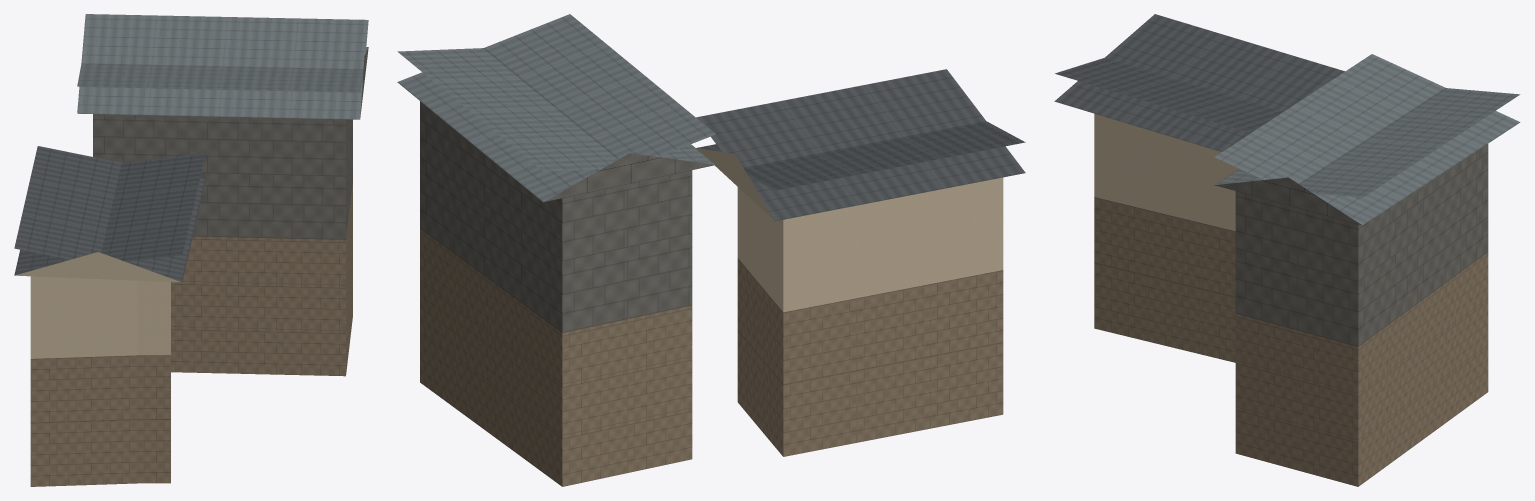
File: bld_c38_-12_532.gltf
3 renders of one model, left to right at view 1: azimuth 30°, elevation 25°; view 2: azimuth 150°, elevation 25°; view 3: azimuth 270°, elevation 25°, orthographic. The views are drawn at different scales.
Visible parts, largest first — view 1: bld_c38_-12_532; view 2: bld_c38_-12_532; view 3: bld_c38_-12_532.
Boxes of the visible parts, box(x1,y1,x2,y2) form: bld_c38_-12_532: box(14, 14, 368, 486); bld_c38_-12_532: box(397, 14, 1025, 486); bld_c38_-12_532: box(1054, 14, 1520, 486).
Bounding box in the file's own units: 17.57 × 10.7 × 15.17.
7 materials, 7 textured.
